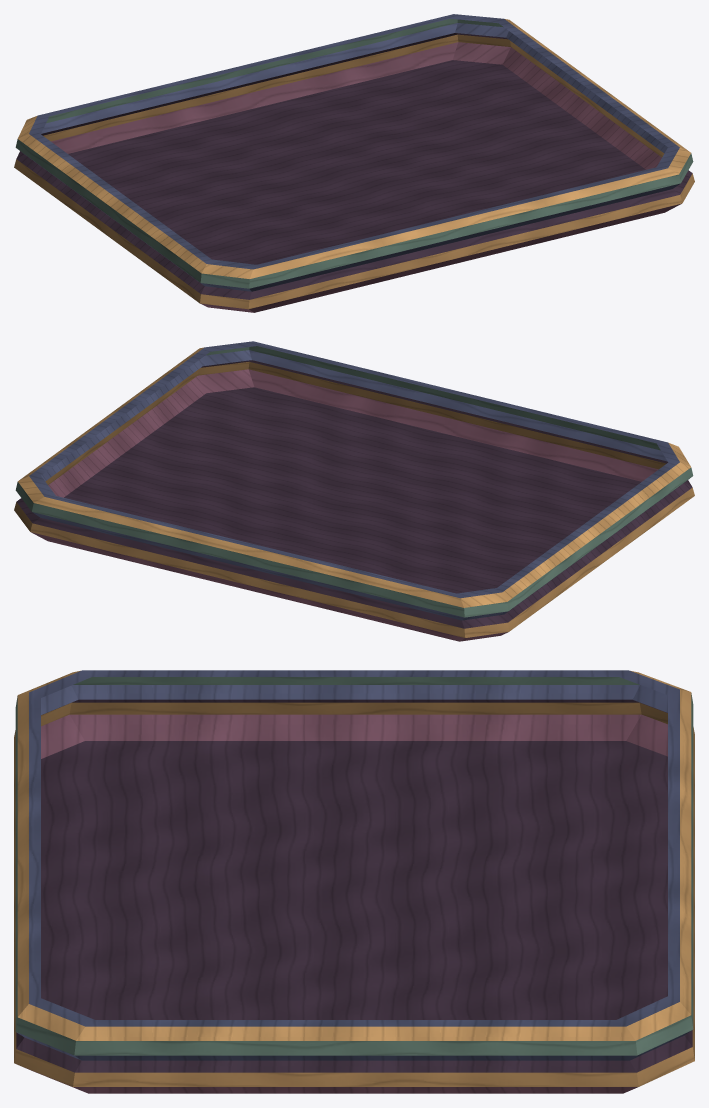
The model's file is inlaid-optical-tray.glb.
The picture shows the model from 3 angles, top to bottom: view 1: azimuth 30°, elevation 25°; view 2: azimuth 150°, elevation 25°; view 3: azimuth 270°, elevation 25°; orthographic projection. The views are drawn at different scales.
Visible parts, largest first — view 1: inlaid-optical-tray; view 2: inlaid-optical-tray; view 3: inlaid-optical-tray.
Boxes of the visible parts, box(x1,y1,x2,y2) form: inlaid-optical-tray: box(14, 14, 694, 312); inlaid-optical-tray: box(14, 341, 694, 641); inlaid-optical-tray: box(14, 670, 694, 1093).
Size of the model in its own units: 1.59 by 0.137 by 1.23.
Materials: 1 (1 with a texture image).
